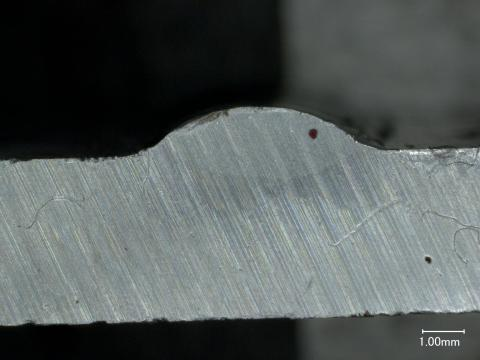test: (131, 106, 381, 155)
